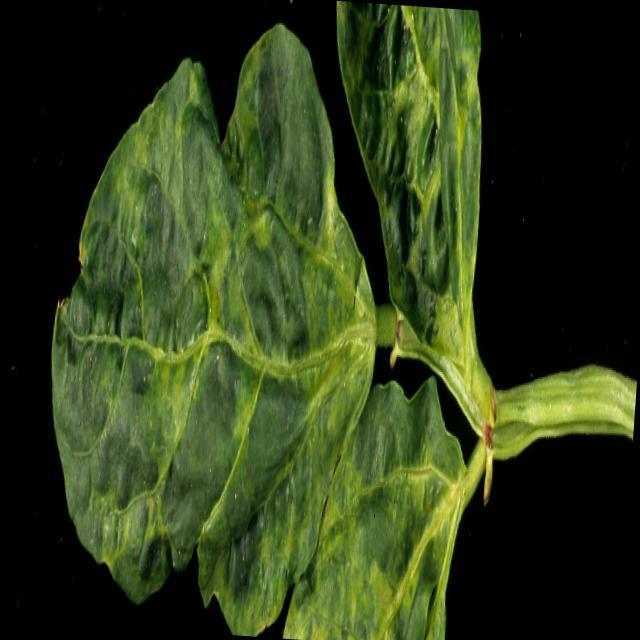Mosaic Virus: (39, 25, 383, 639), (313, 6, 504, 343), (296, 396, 472, 640)
